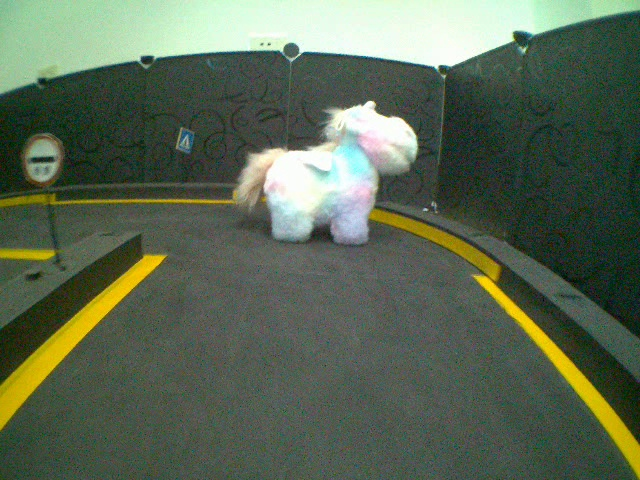unicorn: (234, 95, 418, 247)
